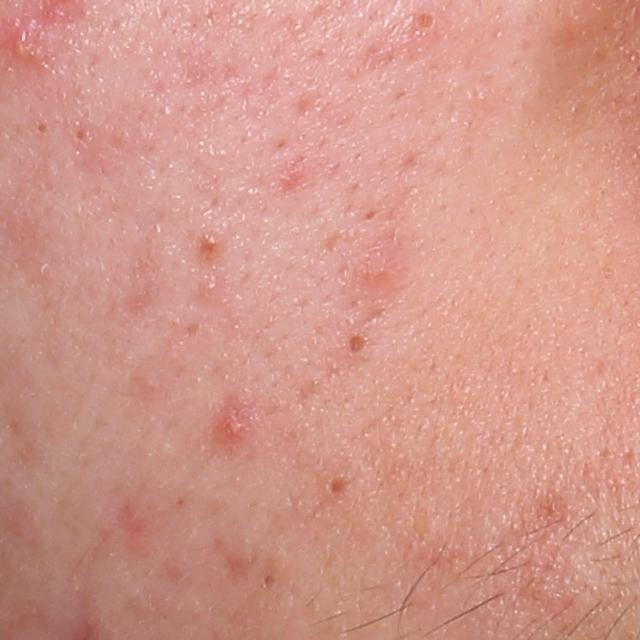comedo: (3, 16, 47, 64), (343, 333, 370, 355), (360, 203, 383, 226), (326, 474, 348, 497), (413, 12, 437, 29), (73, 125, 90, 147), (260, 573, 278, 590), (35, 121, 49, 137)
papule: (215, 405, 253, 448)
